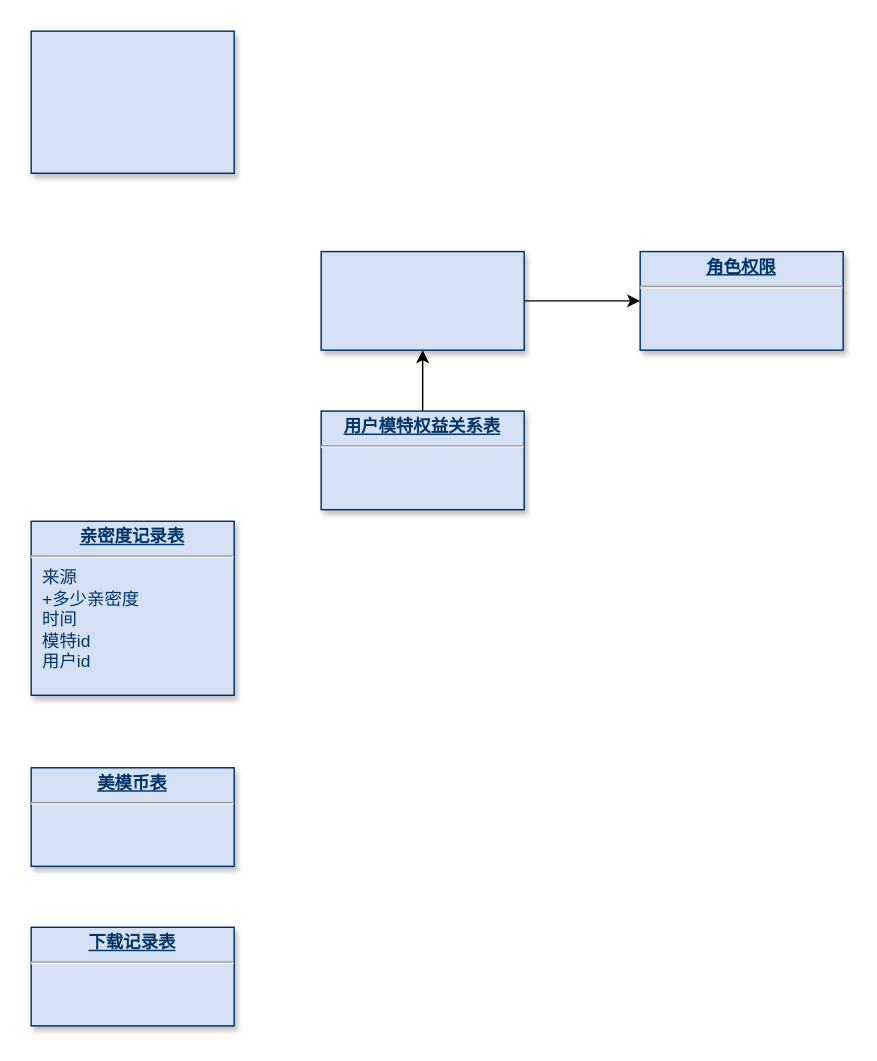
Some shapes in this 877 by 1061 pixel diagram are drawn without their labels. The shapes that lost their labels are listed below. From the top down, each one's centre as x and y in pixels, then its label:
At pixel 133 103: "投票记录表 投票数 投票类型：金票|银票 模特id 用户id".
At pixel 423 302: "权益角色关系表".
